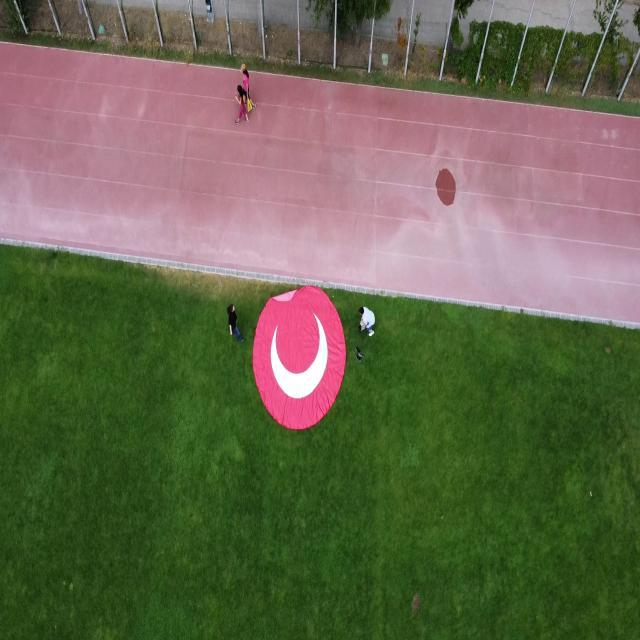vehicle: (252, 286, 347, 432), (227, 304, 245, 344), (358, 305, 376, 337), (234, 90, 249, 126), (241, 64, 253, 108)
